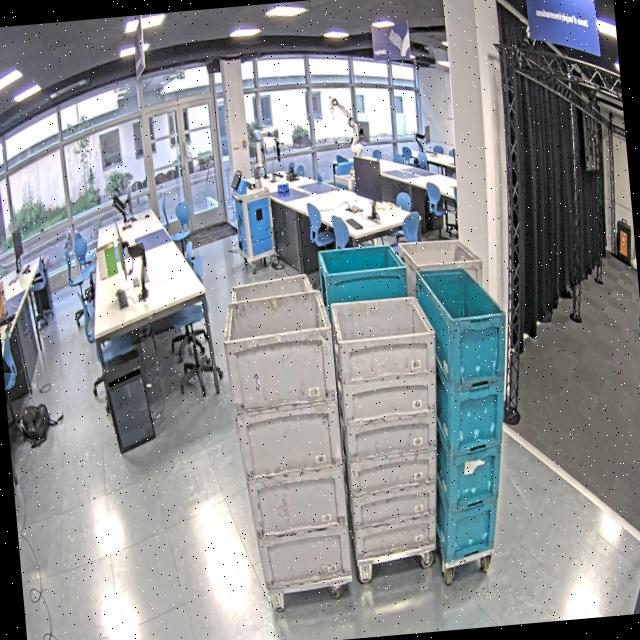Box3G: (327, 288, 455, 560), (226, 270, 344, 555)
Box4G: (217, 284, 355, 594), (392, 234, 505, 524)
BoxB4: (402, 264, 528, 560), (316, 238, 430, 534)
